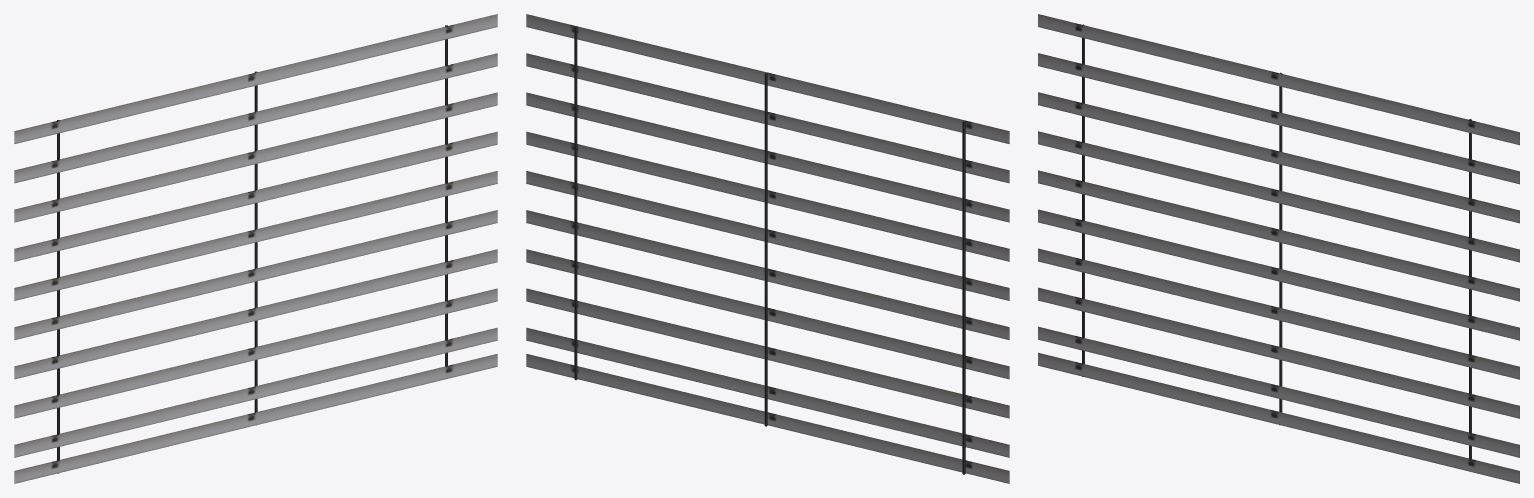
The model's file is curtain wide open.FBX.
3 renders of one model, left to right at view 1: azimuth 30°, elevation 25°; view 2: azimuth 150°, elevation 25°; view 3: azimuth 330°, elevation 25°, orthographic.
Visible parts, largest first — view 1: curtain wide open; view 2: curtain wide open; view 3: curtain wide open.
Part boxes in pixels (x1,y1,x2,y2): curtain wide open: [14, 14, 497, 483]; curtain wide open: [526, 14, 1009, 483]; curtain wide open: [1038, 14, 1519, 483].
Size of the model in its own units: 63.72 by 0.362 by 44.54.
